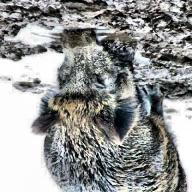boar: (21, 27, 192, 192)
